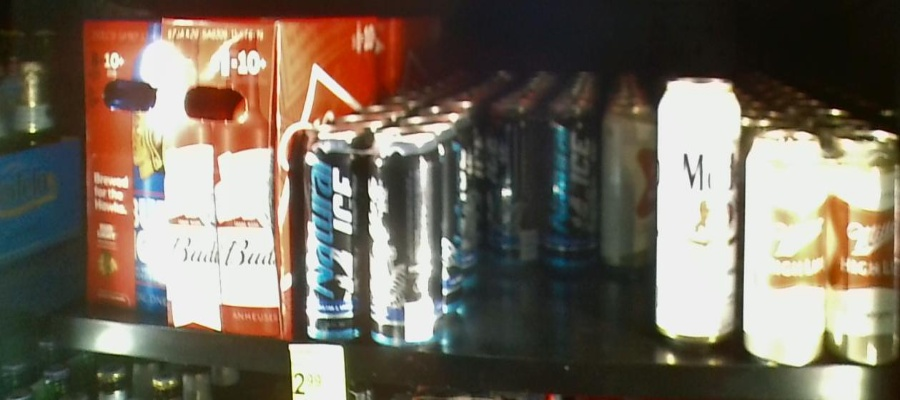bottle: (79, 16, 302, 339), (744, 133, 900, 365), (302, 128, 442, 352), (659, 76, 739, 349), (481, 105, 595, 267), (598, 105, 655, 268)
